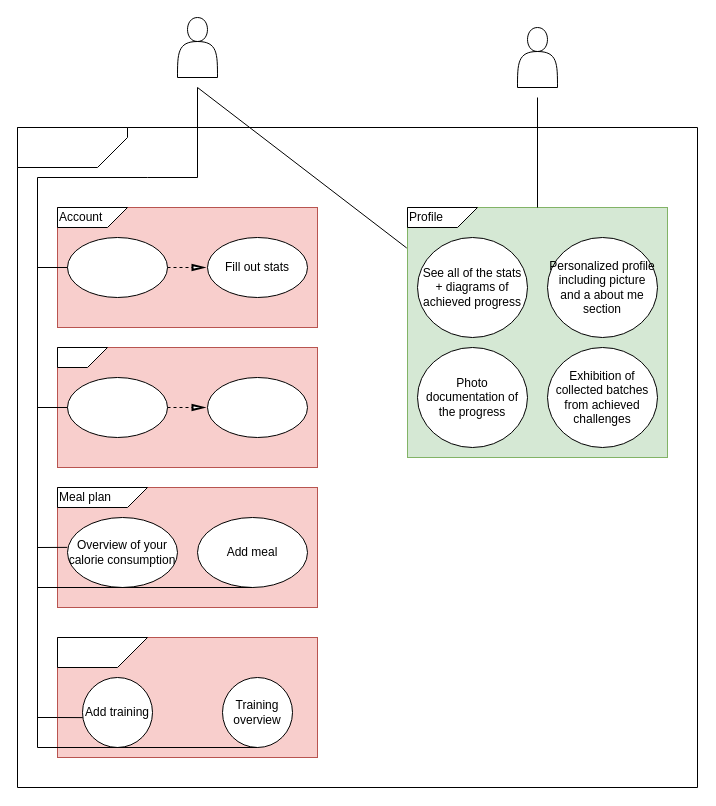
Some shapes in this 716 by 806 pixel diagram are drawn without their labels. Each missing label, with the centre of its shape:
Create Account: the point at 117,267
Log: the point at 82,357
Manage trainings: the point at 102,652
View training log: the point at 117,407
View training statistics: the point at 257,407
Workout-Log: the point at 72,147
